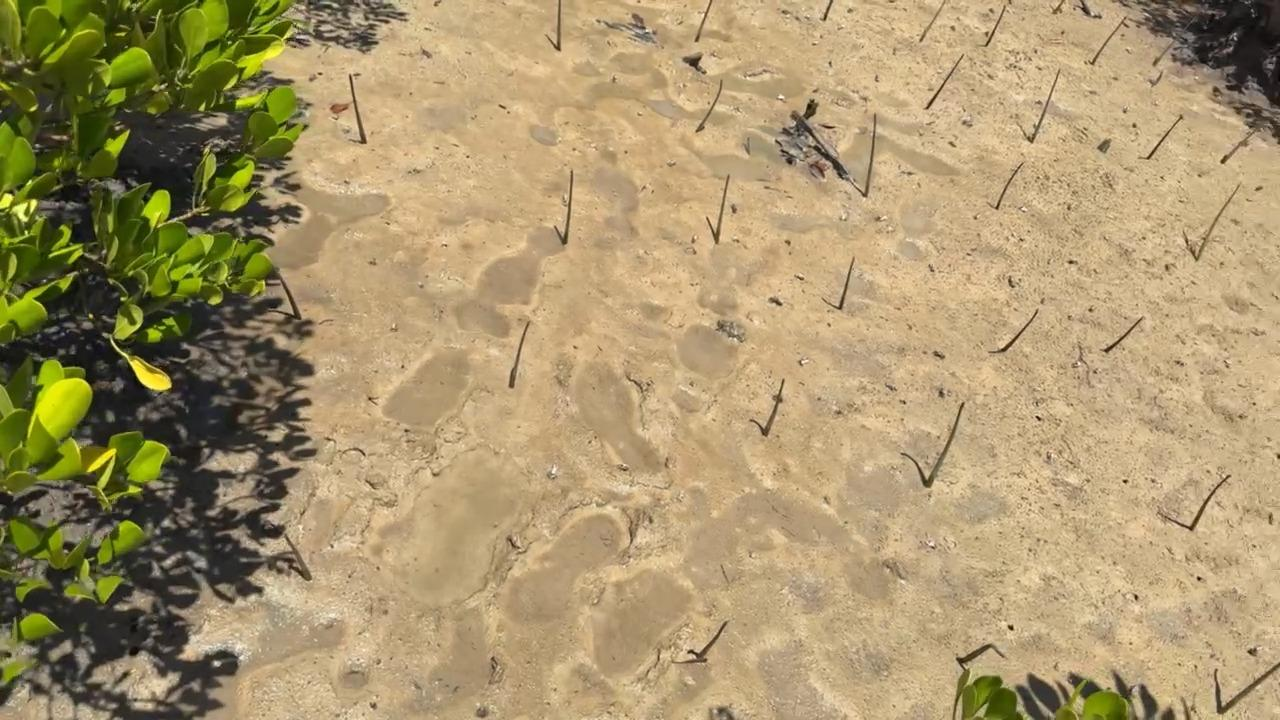Tree: (1196, 184, 1241, 262), (925, 401, 964, 487), (1217, 662, 1280, 715), (1191, 474, 1231, 531), (1154, 17, 1198, 64), (927, 53, 964, 108), (1032, 69, 1059, 142), (1092, 15, 1128, 66), (696, 78, 723, 134), (1147, 117, 1182, 158), (510, 322, 531, 389), (1004, 310, 1038, 351), (1104, 318, 1143, 352), (763, 377, 785, 437), (284, 533, 312, 580), (994, 163, 1023, 208), (348, 75, 367, 143), (697, 621, 728, 662), (919, 0, 946, 43), (1222, 129, 1256, 163), (276, 274, 301, 319), (863, 112, 876, 196), (715, 175, 730, 244), (563, 170, 575, 245), (957, 643, 1005, 661), (987, 5, 1006, 46), (695, 0, 713, 41), (840, 258, 854, 308), (557, 0, 561, 50), (824, 0, 833, 20), (1053, 0, 1065, 14)
